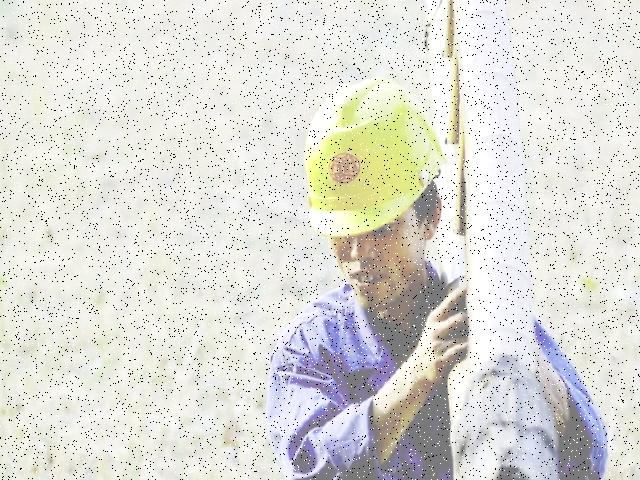Helmet: (301, 70, 453, 242)
